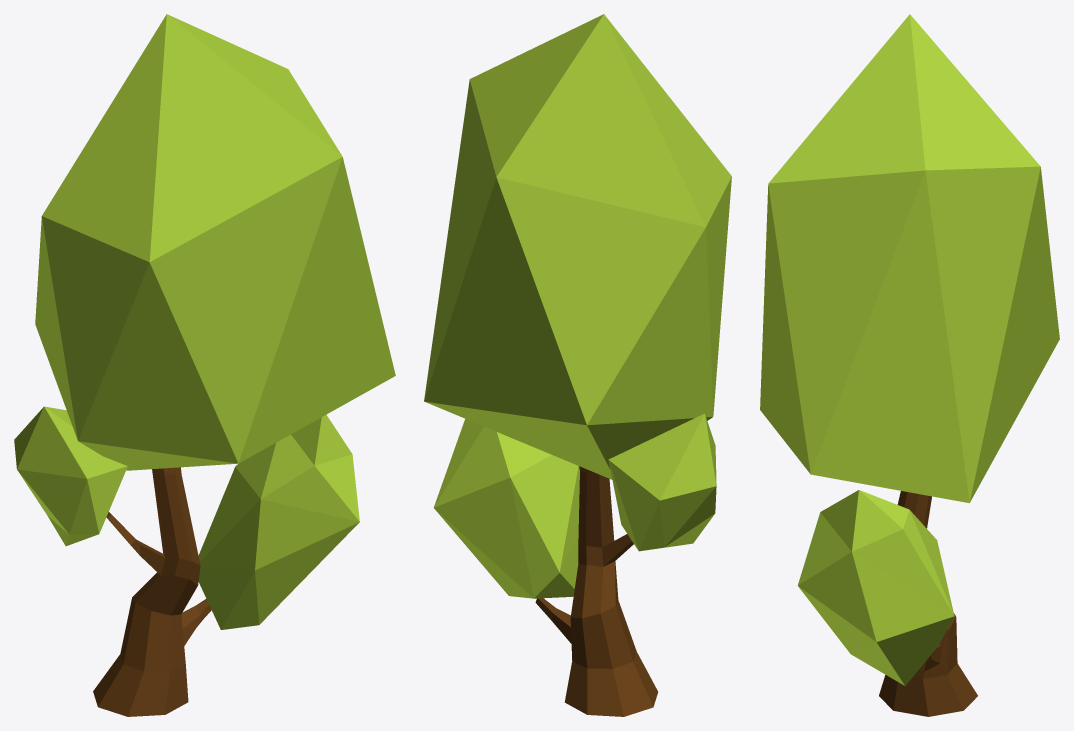
File: tree1.fbx
The picture shows the model from 3 angles, left to right: view 1: azimuth 30°, elevation 25°; view 2: azimuth 150°, elevation 25°; view 3: azimuth 270°, elevation 25°; orthographic projection. The views are drawn at different scales.
Visible parts, largest first — view 1: Tree.001; view 2: Tree.001; view 3: Tree.001.
Boxes of the visible parts, box(x1,y1,x2,y2) form: Tree.001: box(14, 14, 395, 716); Tree.001: box(424, 14, 731, 716); Tree.001: box(760, 14, 1059, 716).
Bounding box in the file's own units: 0.5832 × 1.22 × 0.4821.
